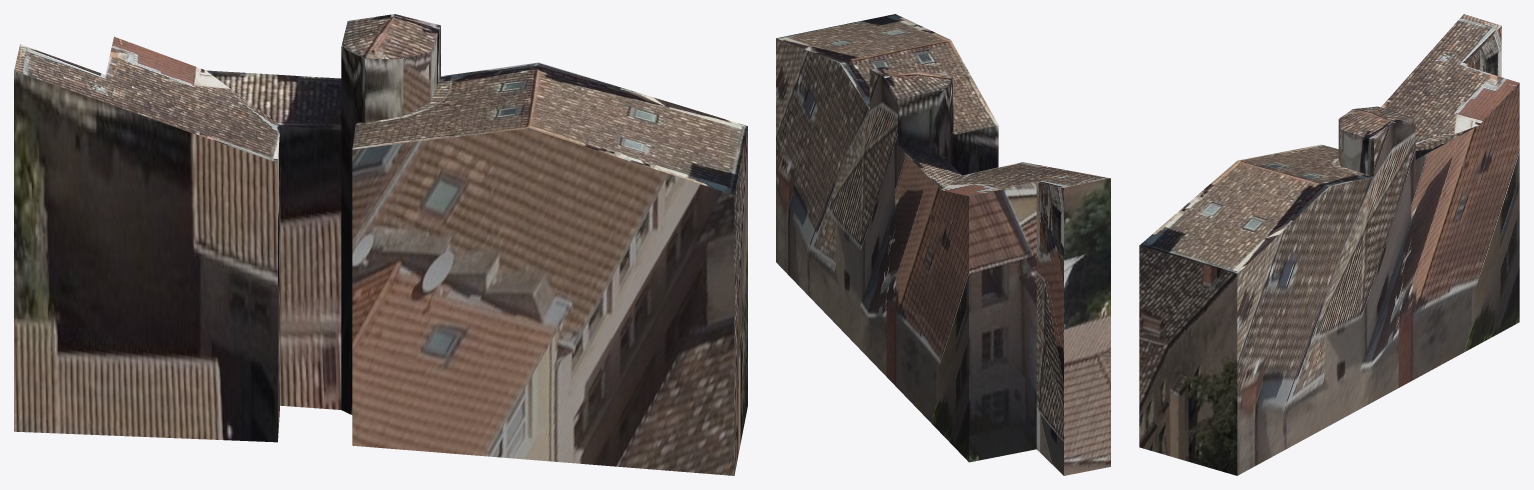
3 renders of one model, left to right at view 1: azimuth 30°, elevation 25°; view 2: azimuth 150°, elevation 25°; view 3: azimuth 270°, elevation 25°, orthographic. The views are drawn at different scales.
Visible parts, largest first — view 1: Z_UP; view 2: Z_UP; view 3: Z_UP.
Part boxes in pixels (x1,y1,x2,y2): Z_UP: (14,14,747,475); Z_UP: (776,14,1110,475); Z_UP: (1139,14,1519,475).
Size of the model in its own units: 26.48 by 16.33 by 21.03.
2 materials, 1 textured.
